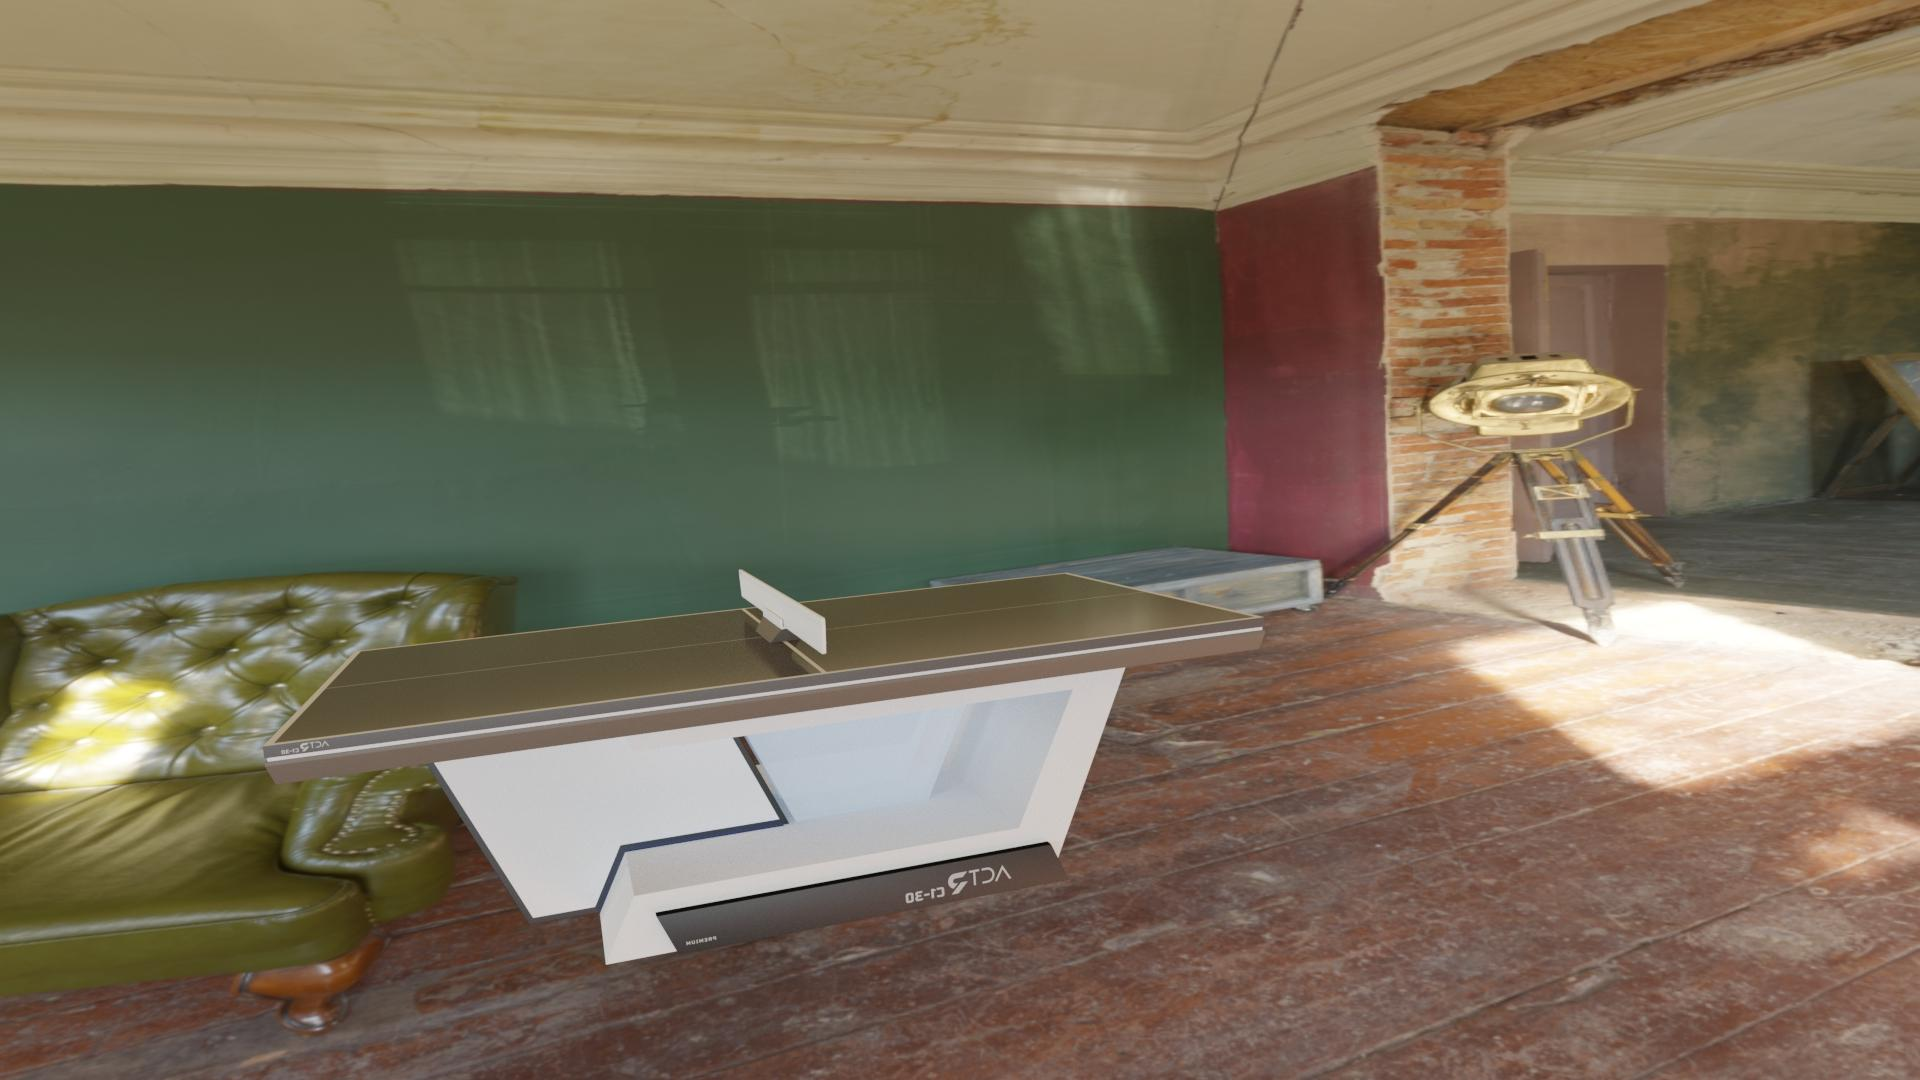table: (274, 574, 1255, 744)
